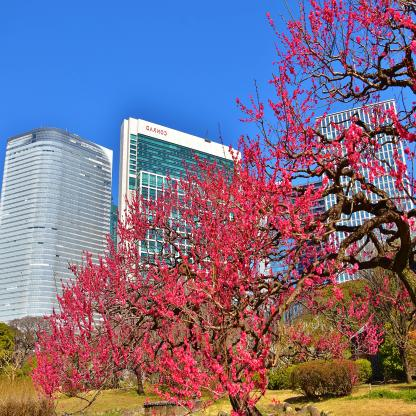Ume: (26, 121, 340, 416), (231, 0, 416, 297), (278, 270, 416, 392)
